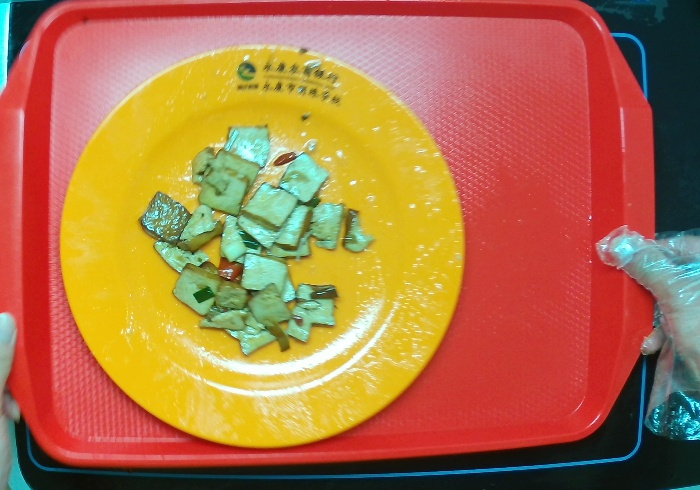YKMZ-Ju_Se_Mian_Pan: (54, 42, 472, 452)
